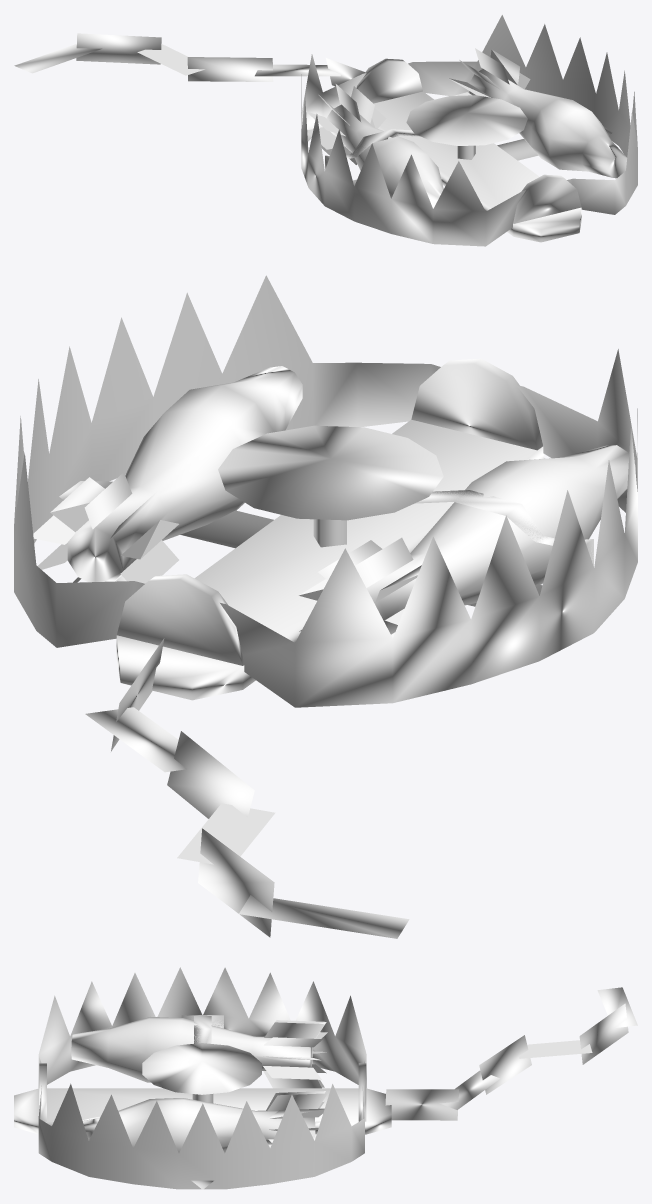
The model's file is bearTrap.glb.
3 renders of one model, top to bottom at view 1: azimuth 30°, elevation 25°; view 2: azimuth 150°, elevation 25°; view 3: azimuth 270°, elevation 25°, orthographic. The views are drawn at different scales.
Parts seen in each view (by area): view 1: bear_Trap; view 2: bear_Trap; view 3: bear_Trap.
Part boxes in pixels (x1=…): bear_Trap: x1=14, y1=15, x2=637, y2=246; bear_Trap: x1=14, y1=275, x2=637, y2=938; bear_Trap: x1=14, y1=967, x2=637, y2=1189.
Size of the model in its own units: 0.9459 by 0.2012 by 1.26.
Materials: 2 (2 with a texture image).
